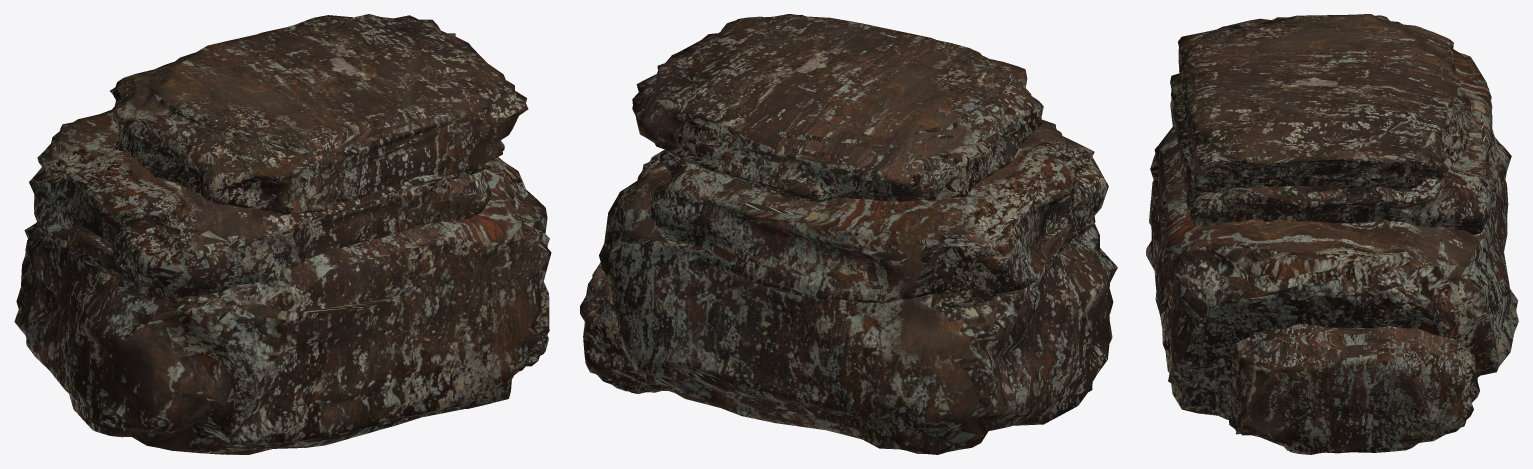
The model's file is rock-strata.glb.
The picture shows the model from 3 angles, left to right: view 1: azimuth 30°, elevation 25°; view 2: azimuth 150°, elevation 25°; view 3: azimuth 270°, elevation 25°; orthographic projection. The views are drawn at different scales.
Visible parts, largest first — view 1: Fractured river stone · layered mineral faces · export mesh; view 2: Fractured river stone · layered mineral faces · export mesh; view 3: Fractured river stone · layered mineral faces · export mesh.
Boxes of the visible parts, x1=… form: Fractured river stone · layered mineral faces · export mesh: x1=14, y1=14, x2=551, y2=454; Fractured river stone · layered mineral faces · export mesh: x1=580, y1=14, x2=1117, y2=454; Fractured river stone · layered mineral faces · export mesh: x1=1146, y1=14, x2=1518, y2=454.
Size of the model in its own units: 0.1793 by 0.1241 by 0.1364.
1 material, 1 textured.
